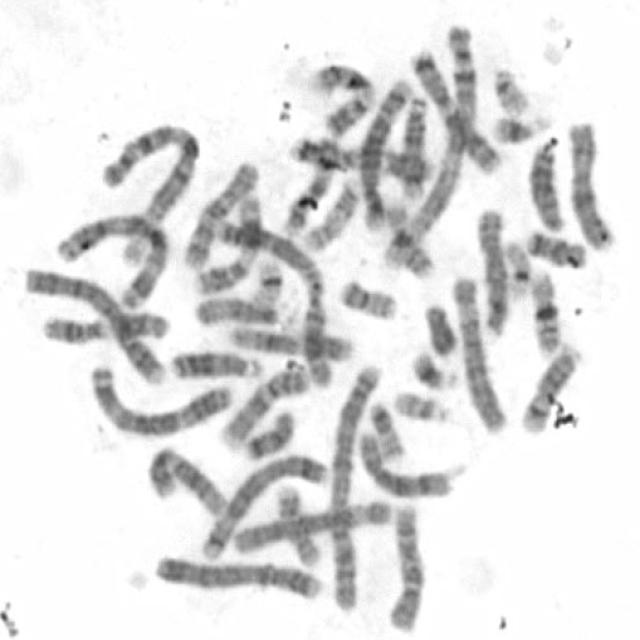A1: (377, 17, 479, 276), (97, 113, 206, 271)
A2: (204, 207, 333, 391), (324, 354, 388, 616)
A3: (51, 207, 172, 310), (82, 357, 235, 438)
B4: (19, 258, 171, 387), (147, 547, 326, 603)
B5: (195, 444, 332, 565), (354, 71, 416, 231)
C10: (178, 153, 260, 274), (381, 495, 430, 635)
C11: (190, 187, 266, 297), (33, 302, 174, 346)
C12: (141, 439, 230, 518), (223, 318, 357, 362)
C6: (222, 491, 398, 558), (448, 268, 513, 435)
C7: (406, 42, 503, 175), (284, 128, 440, 188)
C8: (353, 426, 458, 501), (470, 201, 510, 339)
C9: (214, 360, 310, 450), (304, 56, 377, 138)
D13: (523, 131, 570, 234), (162, 342, 266, 383)
D14: (517, 336, 586, 435), (396, 89, 430, 201)
D15: (286, 134, 348, 235), (188, 290, 290, 328)
E16: (381, 190, 440, 282), (524, 262, 566, 357)
E17: (300, 171, 364, 252), (268, 477, 323, 569)
E18: (235, 401, 298, 461), (520, 223, 590, 271)
F19: (499, 232, 533, 301), (246, 253, 286, 308)
F20: (332, 271, 400, 321), (363, 395, 408, 464)
G21: (487, 106, 552, 146), (406, 345, 462, 391)
G22: (387, 383, 455, 425), (487, 59, 533, 118)
X: (562, 111, 621, 253)
Y: (418, 294, 462, 358)
